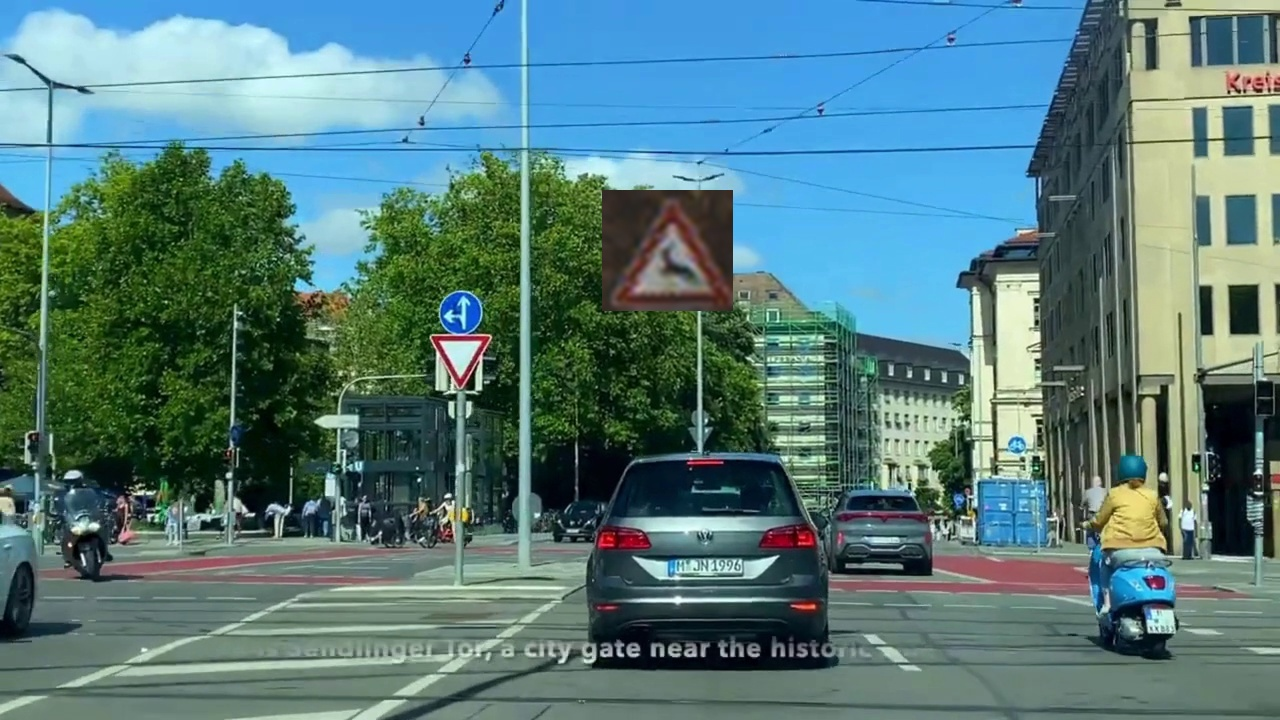Wild animals: (602, 190, 733, 311)
